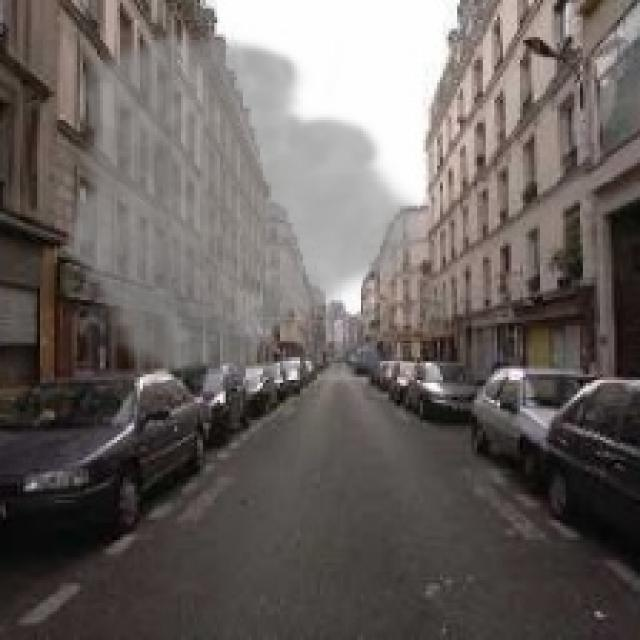smoke: (63, 26, 434, 388)
